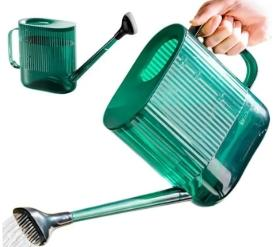ARROSOIR: (2, 0, 276, 247)
